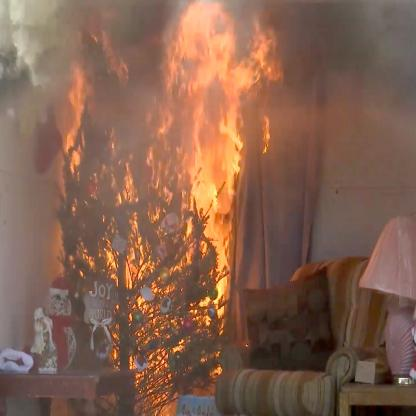fire: (57, 0, 265, 416)
smoke: (233, 0, 416, 294), (0, 0, 70, 370)
